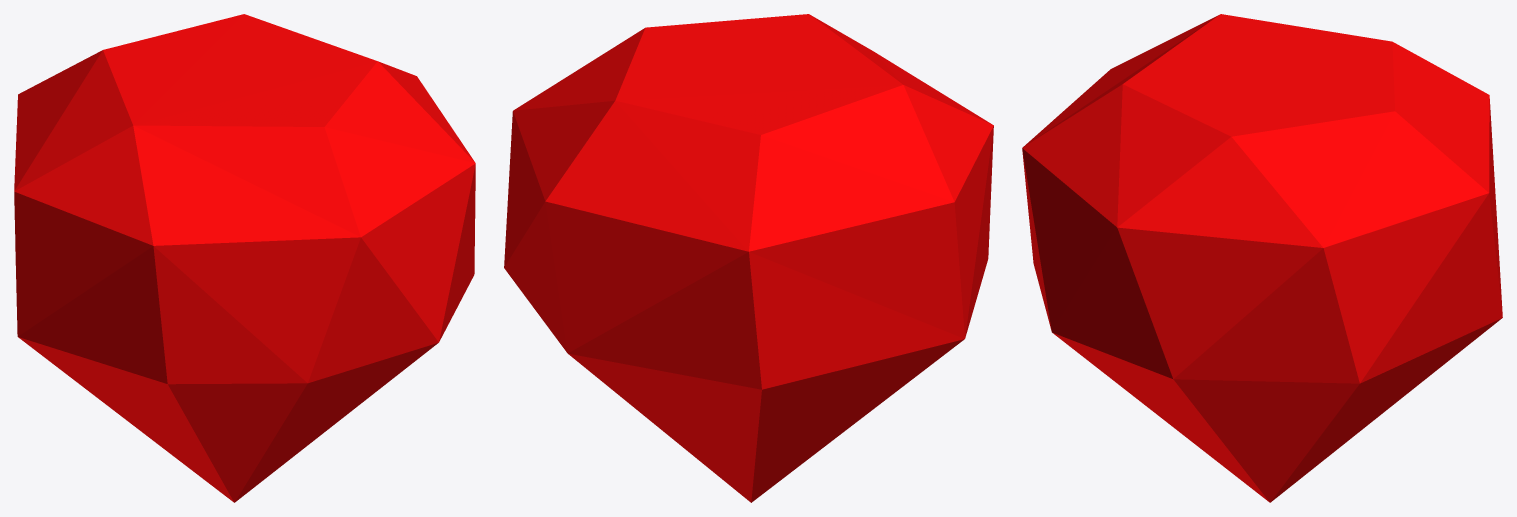
File: idea.glb
The picture shows the model from 3 angles, left to right: view 1: azimuth 30°, elevation 25°; view 2: azimuth 150°, elevation 25°; view 3: azimuth 270°, elevation 25°; orthographic projection.
Visible parts, largest first — view 1: Cone; view 2: Cone; view 3: Cone.
Boxes of the visible parts, x1=… form: Cone: x1=14, y1=14, x2=475, y2=502; Cone: x1=504, y1=14, x2=993, y2=502; Cone: x1=1022, y1=14, x2=1502, y2=502.
Size of the model in its own units: 2.05 by 1.97 by 2.01.
